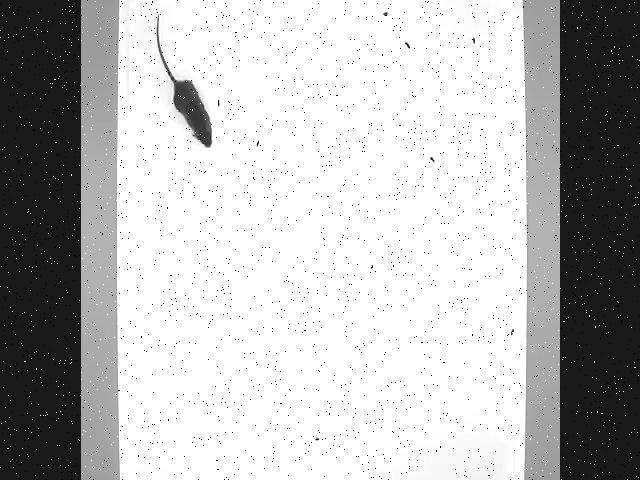Tikus: (148, 16, 216, 162)
